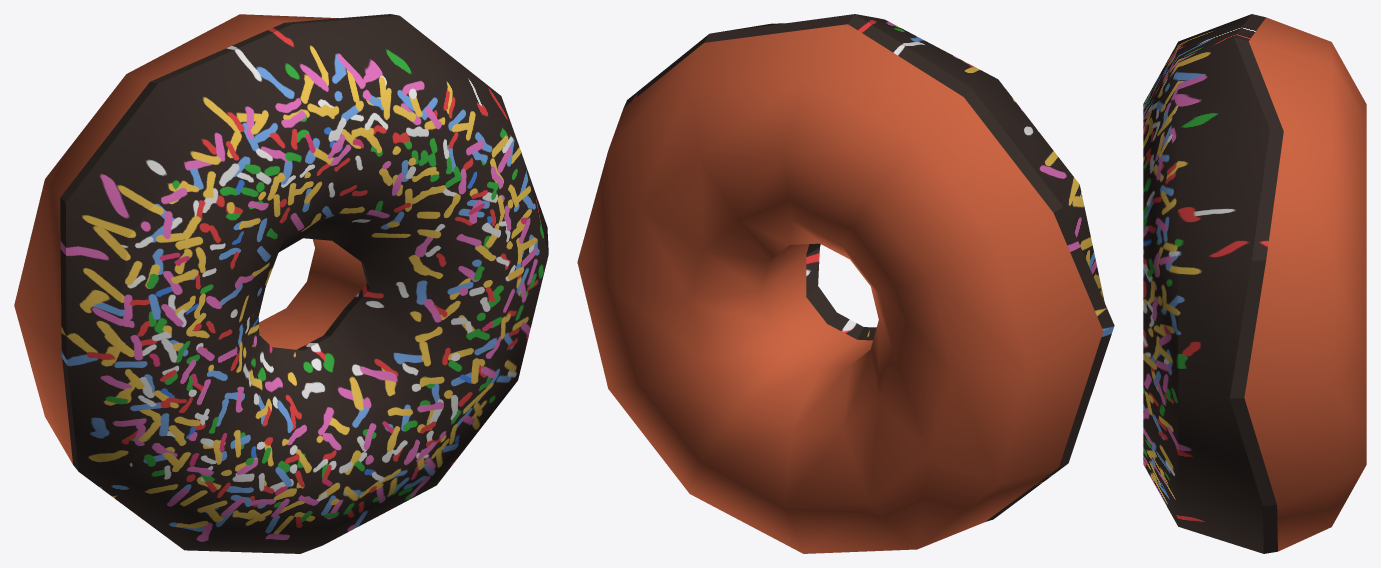
Rendered from donut_02.FBX.
3 views of the same model, side by side, from view 1: azimuth 30°, elevation 25°; view 2: azimuth 150°, elevation 25°; view 3: azimuth 270°, elevation 25° (orthographic). The views are drawn at different scales.
Visible parts, largest first — view 1: Circle002; view 2: Circle002; view 3: Circle002.
Boxes of the visible parts, <box> form: Circle002: <box>14,14,548,553</box>; Circle002: <box>577,14,1114,553</box>; Circle002: <box>1143,14,1366,553</box>.
Size of the model in its own units: 153 by 154 by 63.8.
